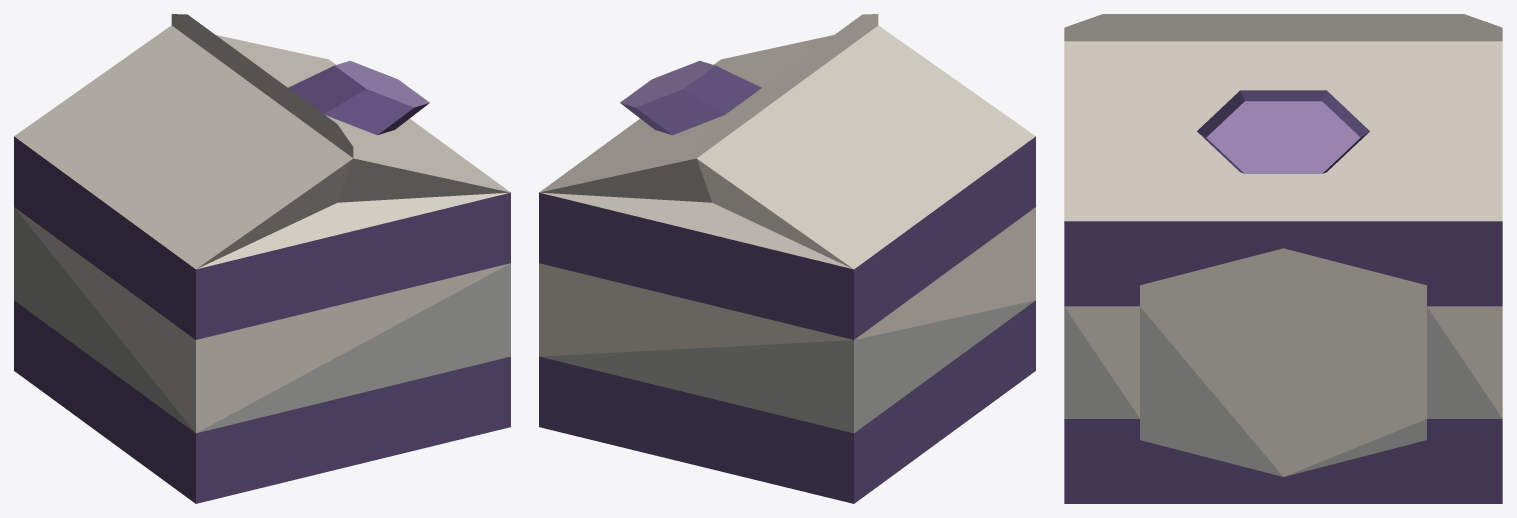
Rendered from carton.glb.
The picture shows the model from 3 angles, left to right: view 1: azimuth 30°, elevation 25°; view 2: azimuth 150°, elevation 25°; view 3: azimuth 270°, elevation 25°; orthographic projection. The views are drawn at different scales.
Size of the model in its own units: 1 by 1 by 1.
